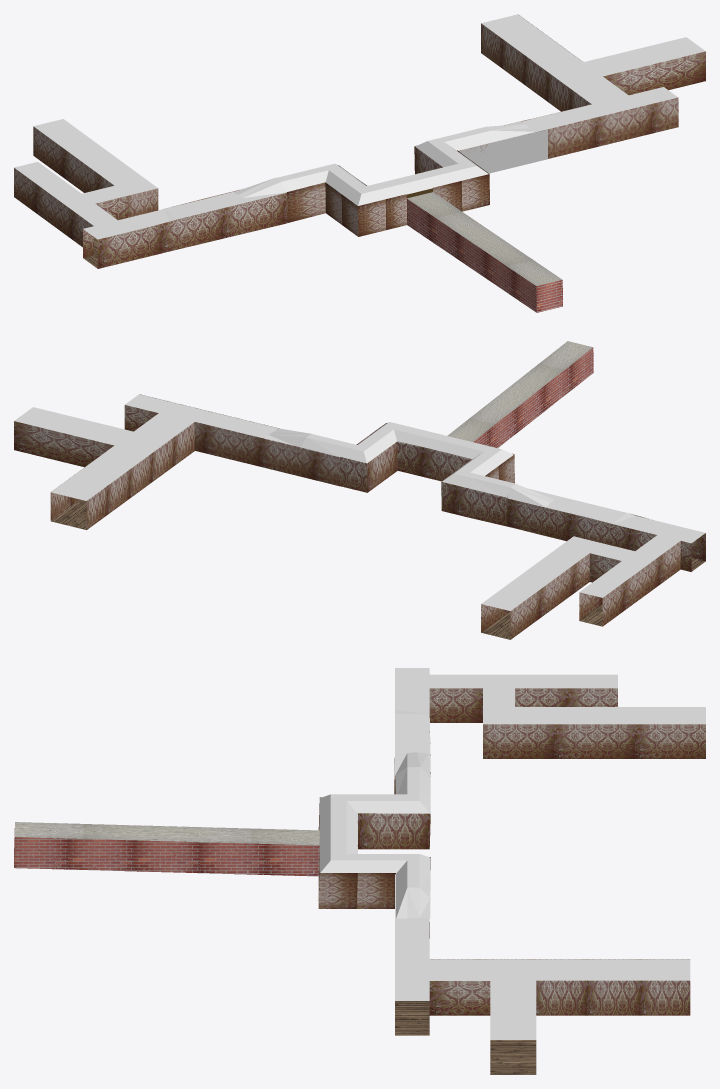
File: Textured Level (1).FBX
3 renders of one model, top to bottom at view 1: azimuth 30°, elevation 25°; view 2: azimuth 150°, elevation 25°; view 3: azimuth 270°, elevation 25°, orthographic. The views are drawn at different scales.
Visible parts, largest first — view 1: Wall, Left Hall Walls, Wall Behind, First Room:Walls, Right Hall-Straight, First Room:Ceiling, Right Hallway Curving, Left Hall Curving, Left Hall Final Curve, Right Hallway-Curving Right; view 2: Wall, Wall in front, Right Hall-Straight, Left Hall Walls, Right Hallway Curving, Left Hall Curving, First Room:Ceiling, Right Hallway-Curving Right, First Room:Walls, Left Hall Final Curve, Fork Floor Texture, Flooring Right T (+1 smaller); view 3: Wall, First Room:Walls, Left Hall Final Curve, Right Hallway Curving, First Room:Ceiling, Left Hall Curving, Wall Behind, Wall in front, Right Hallway-Curving Right, Flooring Right T, Right Hallway Floor.
Part boxes in pixels (<box>): Wall: <box>14,14,705,239</box>; Left Hall Walls: <box>97,189,287,268</box>; Wall Behind: <box>287,145,489,236</box>; First Room:Walls: <box>407,199,562,312</box>; Right Hall-Straight: <box>482,97,678,158</box>; First Room:Ceiling: <box>407,192,562,285</box>; Right Hallway Curving: <box>481,14,591,111</box>; Left Hall Curving: <box>14,168,128,257</box>; Left Hall Final Curve: <box>33,126,158,217</box>; Right Hallway-Curving Right: <box>603,51,705,95</box>; Wall: <box>14,394,705,610</box>; Wall in front: <box>340,441,507,526</box>; Right Hall-Straight: <box>139,394,340,486</box>; Left Hall Walls: <box>506,498,705,561</box>; Right Hallway Curving: <box>50,422,194,529</box>; Left Hall Curving: <box>579,541,691,626</box>; First Room:Ceiling: <box>447,341,592,441</box>; Right Hallway-Curving Right: <box>14,405,158,467</box>; First Room:Walls: <box>473,347,593,448</box>; Left Hall Final Curve: <box>481,553,589,639</box>; Fork Floor Texture: <box>481,604,602,639</box>; Flooring Right T: <box>51,451,194,529</box>; Wall: <box>319,668,705,1039</box>; First Room:Walls: <box>14,828,319,876</box>; Left Hall Final Curve: <box>483,724,705,758</box>; Right Hallway Curving: <box>430,959,690,1015</box>; First Room:Ceiling: <box>15,822,319,845</box>; Left Hall Curving: <box>429,688,617,722</box>; Wall Behind: <box>318,779,395,908</box>; Wall in front: <box>357,813,430,869</box>; Right Hallway-Curving Right: <box>429,981,490,1015</box>; Flooring Right T: <box>490,1040,536,1074</box>; Right Hallway Floor: <box>395,1001,429,1035</box>.
Size of the model in its own units: 745 by 586 by 41.3.
